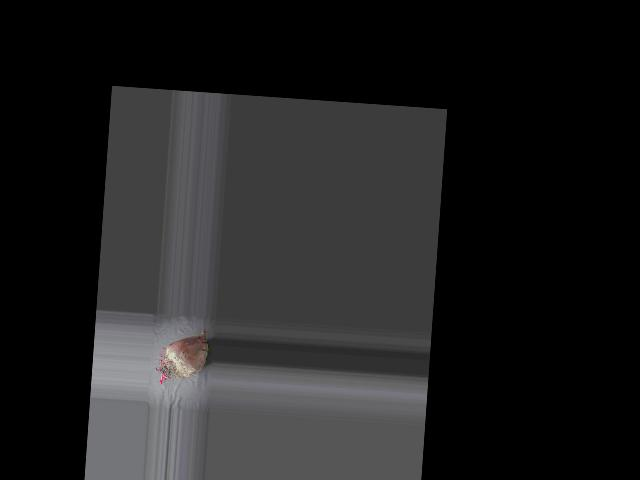beet: (154, 325, 209, 388)
